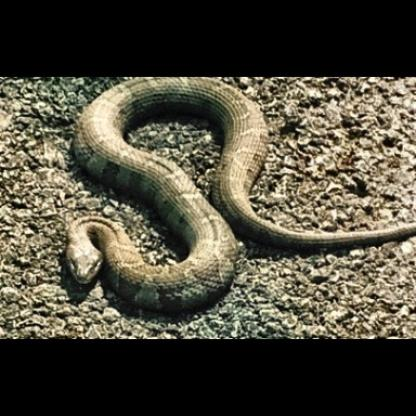Snake: (19, 79, 416, 329)
